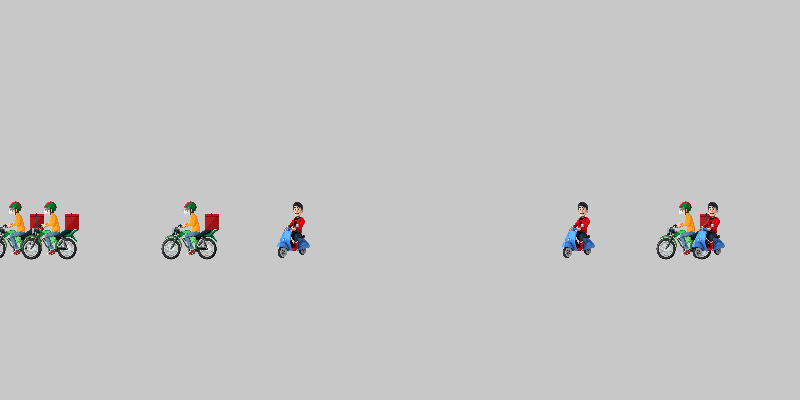helmet: (20, 200, 80, 260), (160, 200, 220, 260), (655, 200, 715, 260), (0, 200, 45, 260)
no_helmet: (265, 200, 325, 260), (550, 200, 610, 260), (680, 200, 740, 260)
